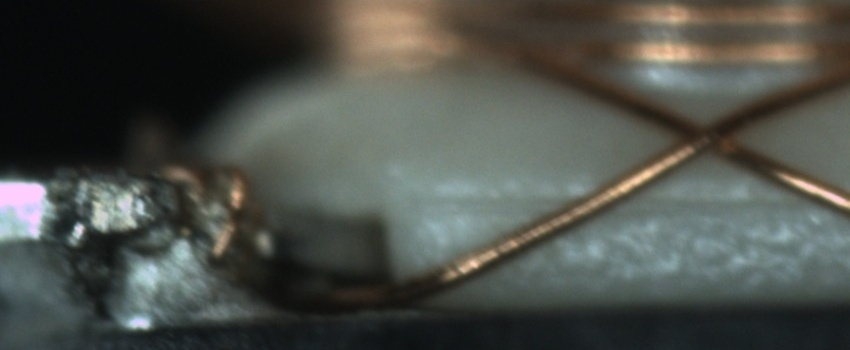CL: (655, 98, 755, 166)
DL: (420, 175, 849, 236)
TE: (156, 156, 251, 261)
